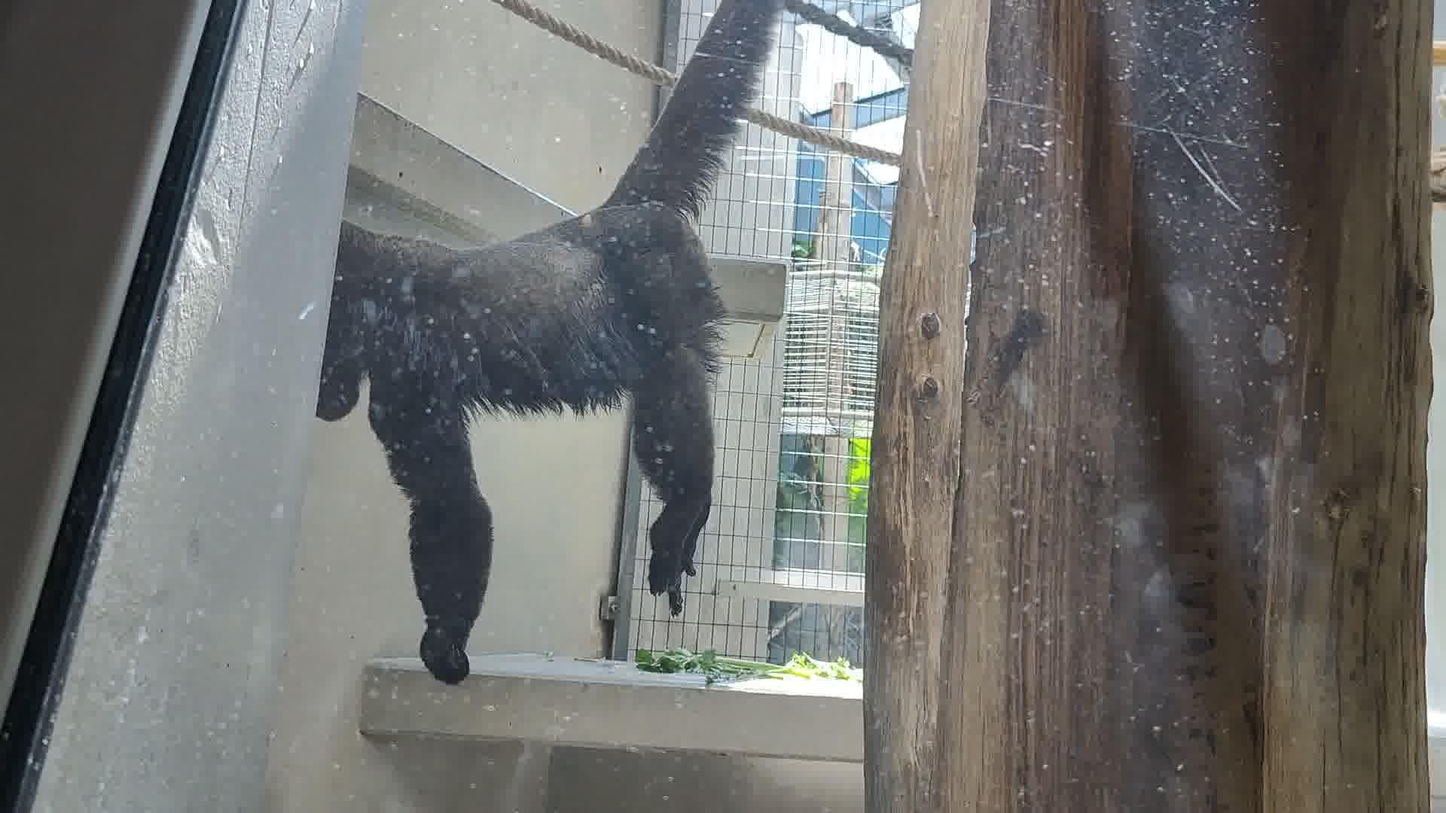boar: (316, 0, 781, 688)
